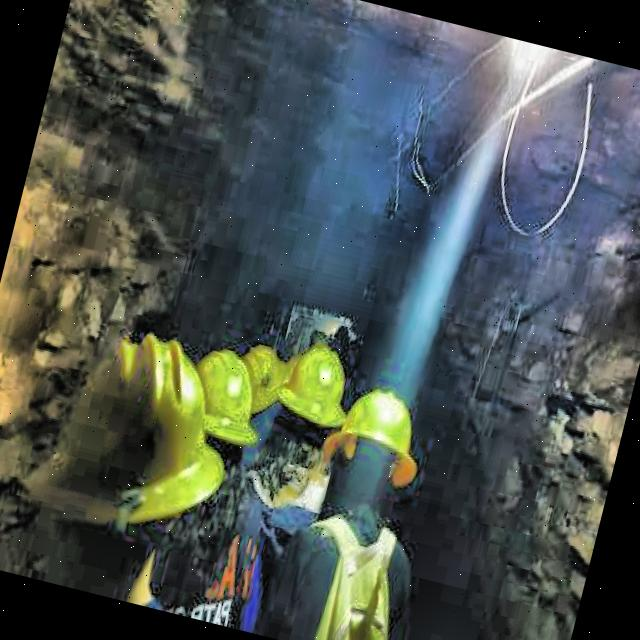helmet: (22, 314, 245, 598), (314, 369, 431, 532), (263, 329, 363, 466)
